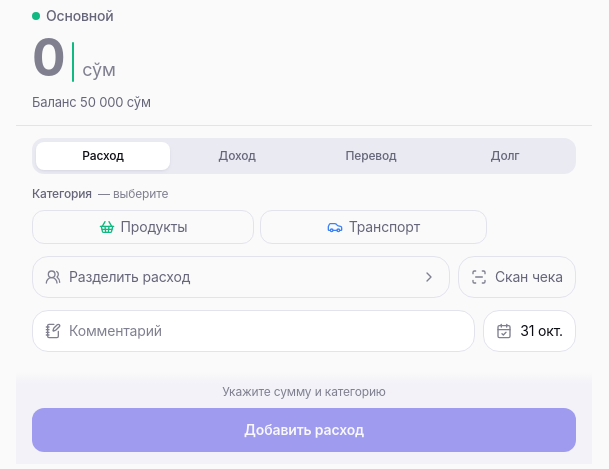
Test: AddTransactionPage › form validation › submit button becomes enabled with amount and category
The width and height of the screenshot is (609, 469).
Replace the text in the field labelled "0 сўм" with "5000" at coordinates (74, 58), box [32,26,116,89]
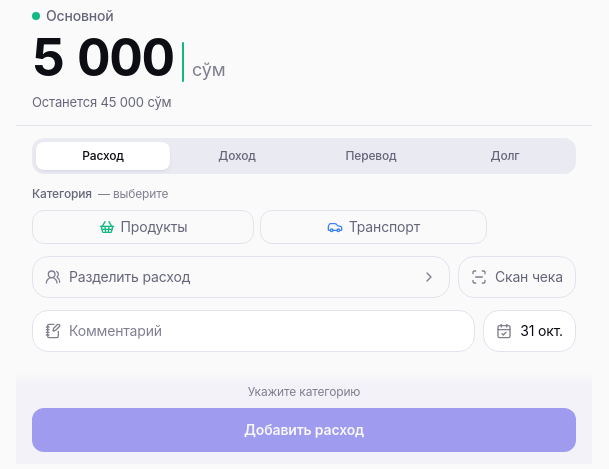
Click the radio button labelled "Продукты" at coordinates (143, 227), box [32,210,254,244]
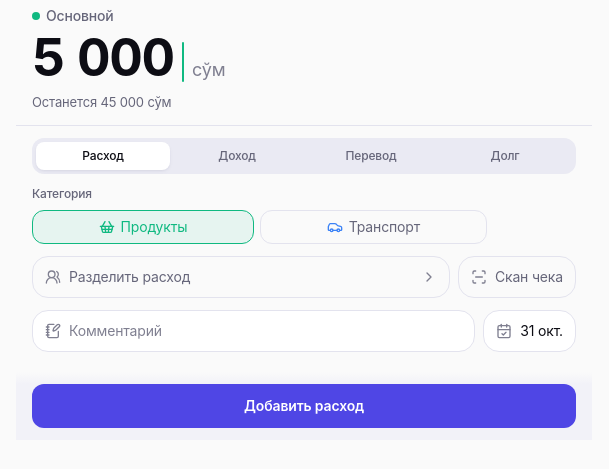
expect the button with test id "submit-btn" is enabled: met, box [32,384,576,428]
